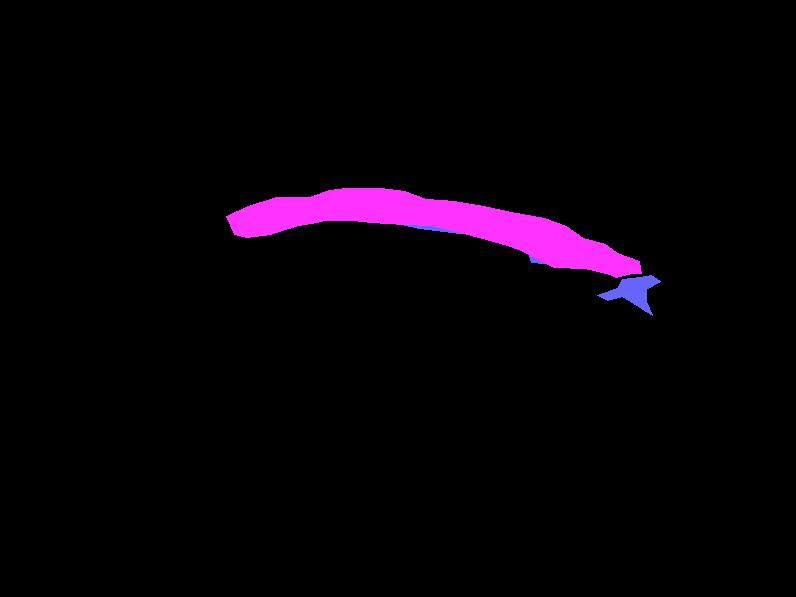Dent: (226, 188, 641, 277)
Scratch: (358, 211, 503, 233), (597, 275, 660, 315), (526, 247, 544, 263)
